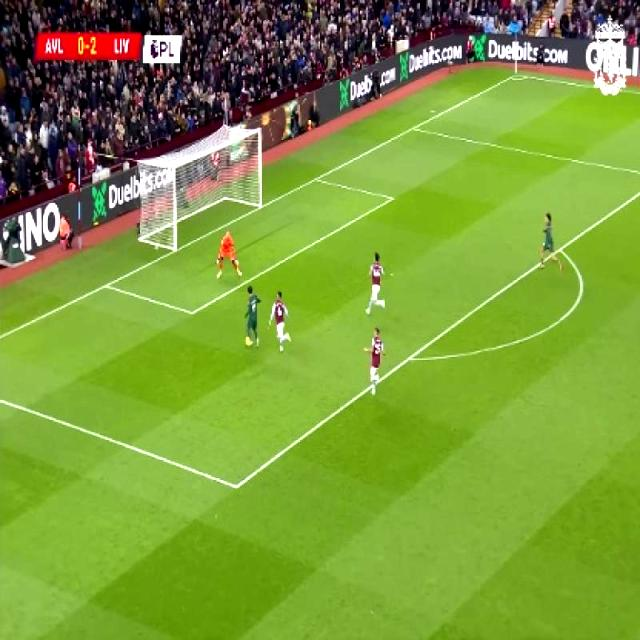bigarea_bottom_inner: (224, 470, 246, 500)
bigarea_top_outter: (406, 117, 422, 137)
bottom_arc_area_intersection: (398, 344, 418, 370)
corner: (506, 66, 526, 82)
smallarea_bottom_inner: (182, 297, 202, 326)
smallarea_bottom_outter: (95, 271, 115, 297)
smallarea_top_inner: (382, 186, 400, 209)
smallarea_top_outter: (306, 166, 324, 189)
top_arc_area_intersection: (549, 236, 566, 262)
